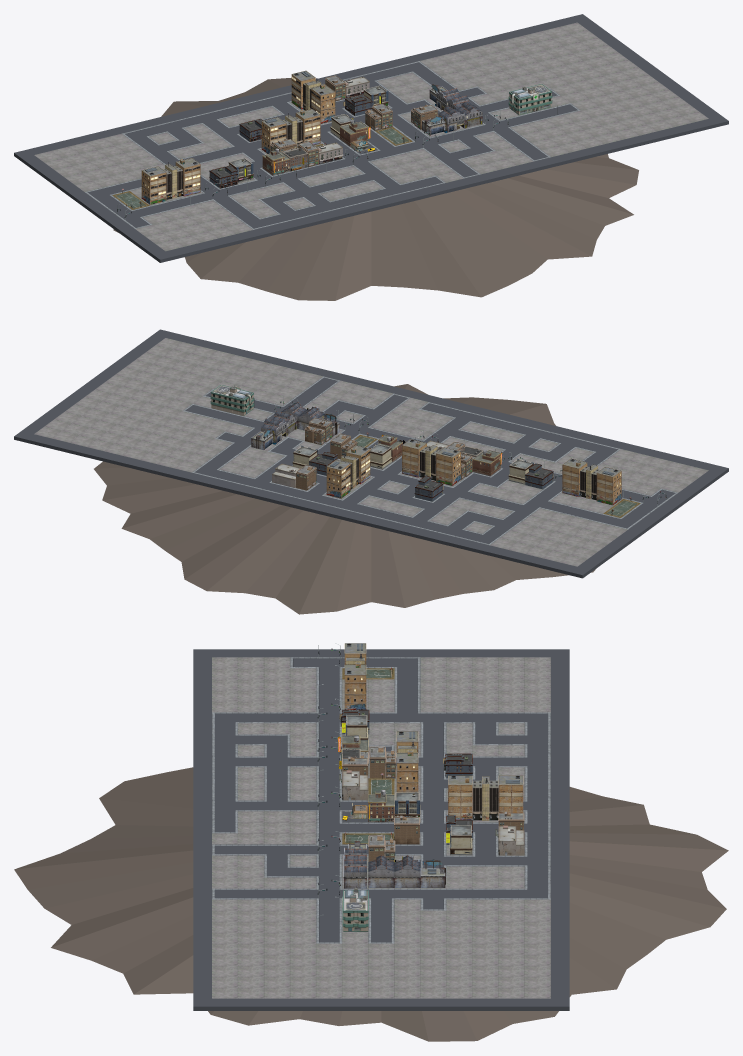
The model's file is world-city.glb.
3 renders of one model, top to bottom at view 1: azimuth 30°, elevation 25°; view 2: azimuth 150°, elevation 25°; view 3: azimuth 270°, elevation 25°, orthographic. The views are drawn at different scales.
Parts seen in each view (by area): view 1: BD_ConcreteBlock1, CityIsland_Rock, CityIsland_Slab, LM_Clinic2, pasted__pCube27, pasted__pCube20_LMProjects_0.002, pasted__pCube27_LMProjects_0.001, Filler_Apartments2, pasted__pCube20_LMProjects_0.001, pasted__pCube20; view 2: BD_ConcreteBlock1, CityIsland_Rock, CityIsland_Slab, LM_Clinic2, pasted__pCube27, pasted__pCube27_LMProjects_0.001, pasted__pCube27_LMProjects_0.002, pasted__pCube20, Filler_Apartments2_FillerBuildings1_0.001, Filler_Apartments2, pasted__pCube20_LMProjects_0.001; view 3: BD_ConcreteBlock1, CityIsland_Slab, CityIsland_Rock, LM_Clinic2, pasted__pCube27_LMProjects_0.002, pasted__pCube20_LMProjects_0.002, pasted__pCube20, pasted__pCube20_LMProjects_0.001.
Part boxes in pixels (<box>): BD_ConcreteBlock1: <box>34,22,708,251</box>; CityIsland_Rock: <box>113,77,638,300</box>; CityIsland_Slab: <box>14,14,728,262</box>; LM_Clinic2: <box>508,84,552,115</box>; pasted__pCube27: <box>141,166,166,198</box>; pasted__pCube20_LMProjects_0.002: <box>311,85,335,117</box>; pasted__pCube27_LMProjects_0.001: <box>261,117,286,148</box>; Filler_Apartments2: <box>209,165,237,188</box>; pasted__pCube20_LMProjects_0.001: <box>295,109,320,140</box>; pasted__pCube20: <box>175,158,200,189</box>; BD_ConcreteBlock1: <box>34,338,708,566</box>; CityIsland_Rock: <box>94,384,596,614</box>; CityIsland_Slab: <box>14,329,728,578</box>; LM_Clinic2: <box>210,385,254,415</box>; pasted__pCube27: <box>596,467,621,498</box>; pasted__pCube27_LMProjects_0.001: <box>436,447,460,479</box>; pasted__pCube27_LMProjects_0.002: <box>326,459,350,491</box>; pasted__pCube20: <box>562,458,587,490</box>; Filler_Apartments2_FillerBuildings1_0.001: <box>414,475,443,501</box>; Filler_Apartments2: <box>525,463,553,489</box>; pasted__pCube20_LMProjects_0.001: <box>402,439,426,470</box>; BD_ConcreteBlock1: <box>212,657,550,998</box>; CityIsland_Slab: <box>193,649,569,1010</box>; CityIsland_Rock: <box>14,767,728,1041</box>; LM_Clinic2: <box>342,888,368,931</box>; pasted__pCube27_LMProjects_0.002: <box>498,775,523,812</box>; pasted__pCube20_LMProjects_0.002: <box>448,775,472,812</box>; pasted__pCube20: <box>344,664,366,703</box>; pasted__pCube20_LMProjects_0.001: <box>396,752,418,791</box>.
Size of the model in its own units: 584 by 78.86 by 494.
Materials: 24 (18 with a texture image).
